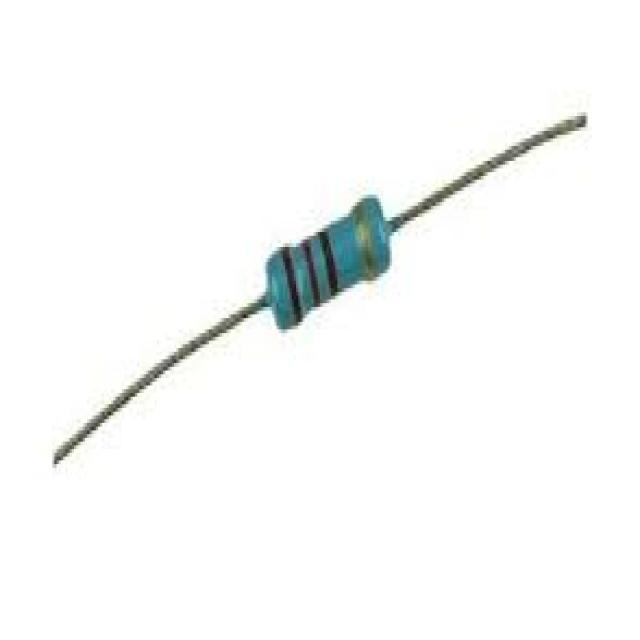Resistor: (261, 193, 395, 334)
